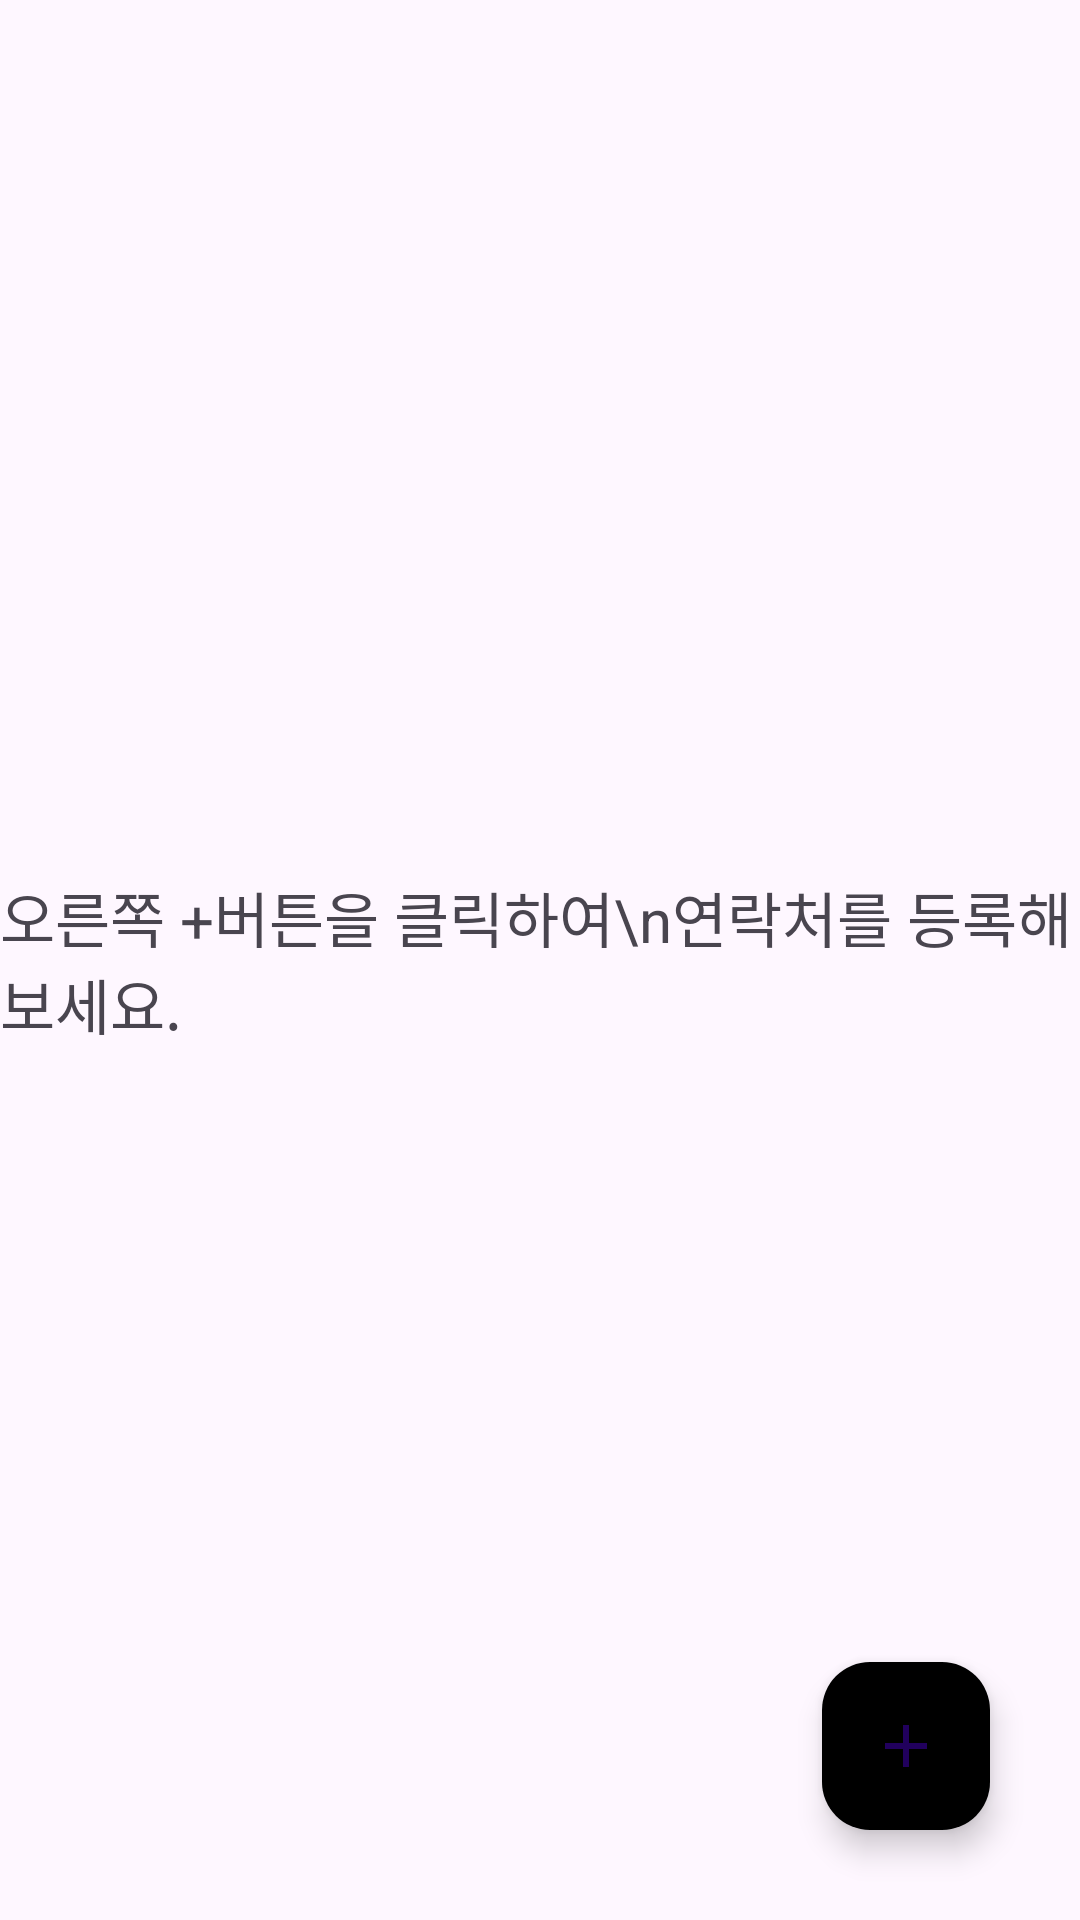

Locate icon controls on the screen. Image size 1080 × 1920, boxes as (x1, y1, x2, y2).
add: (822, 1662, 990, 1830)
